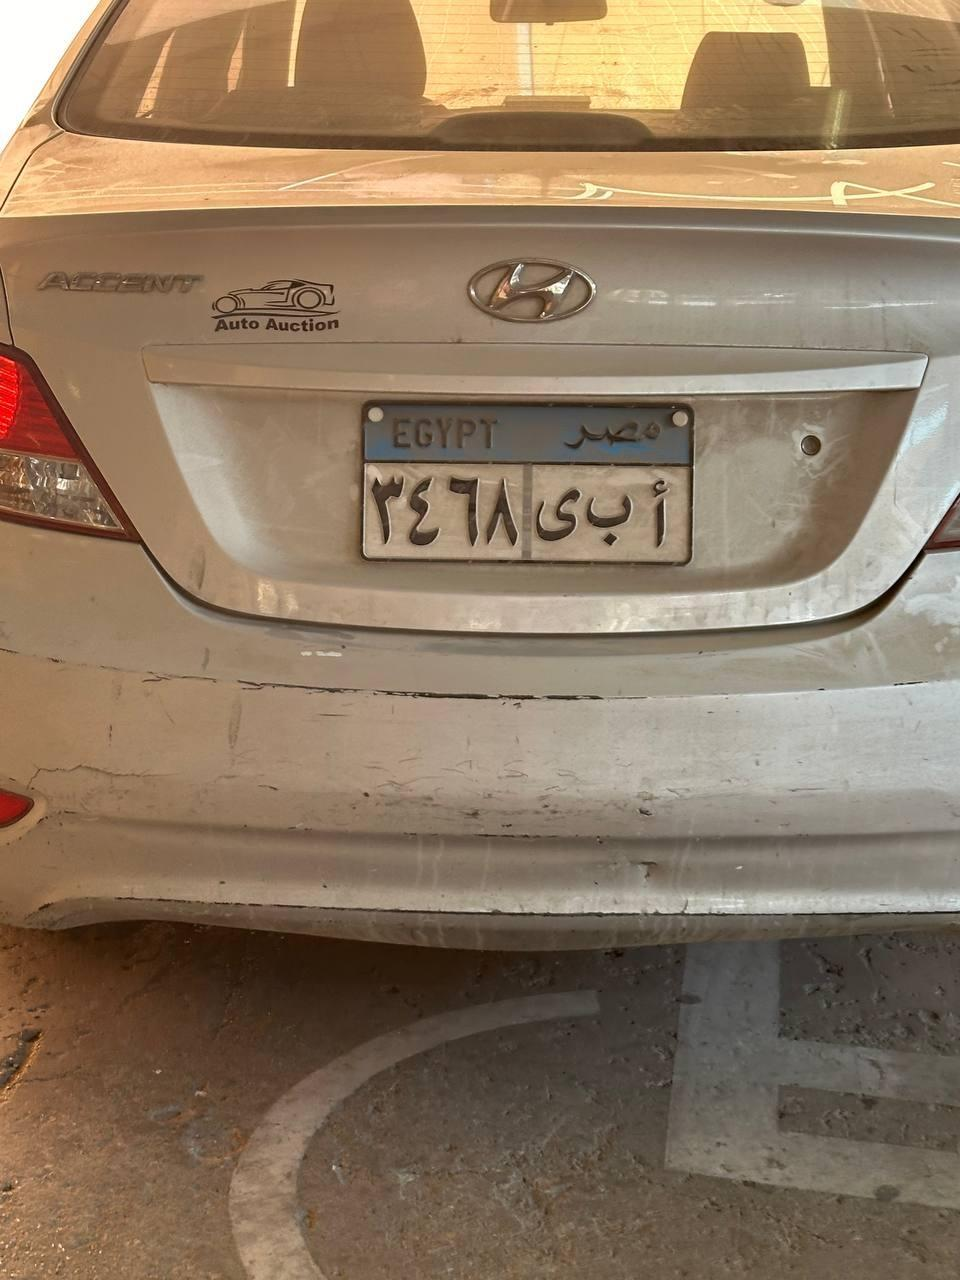3: (368, 469, 407, 544)
4: (398, 474, 450, 550)
6: (444, 474, 486, 547)
8: (476, 472, 528, 554)
License Plate: (357, 388, 714, 571)
Yeeh: (531, 486, 583, 548)
alef: (648, 474, 672, 548)
baa: (580, 492, 636, 550)
